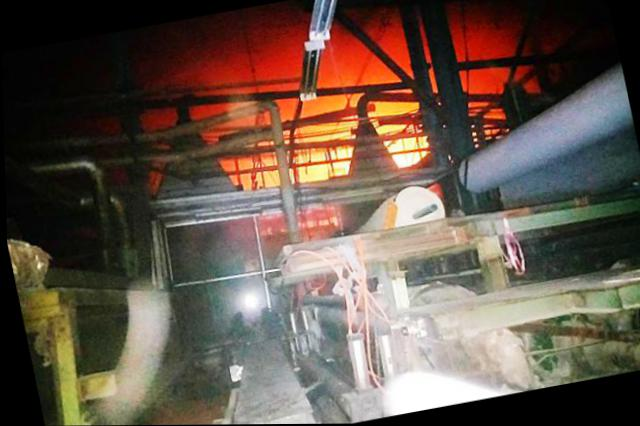fire: (231, 117, 426, 193)
